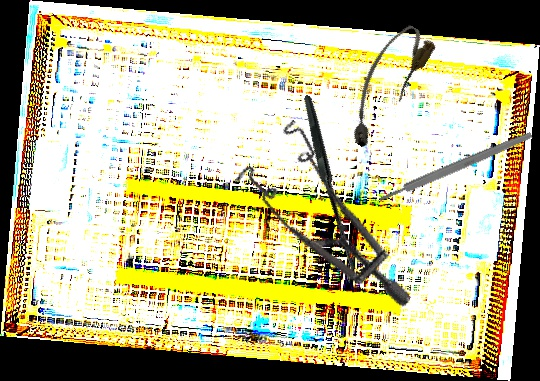Cannula: (332, 18, 439, 153)
Hook Surgical: (248, 94, 425, 275)
Scalpel Handle: (377, 130, 534, 204)
Speculum: (214, 108, 454, 309)
